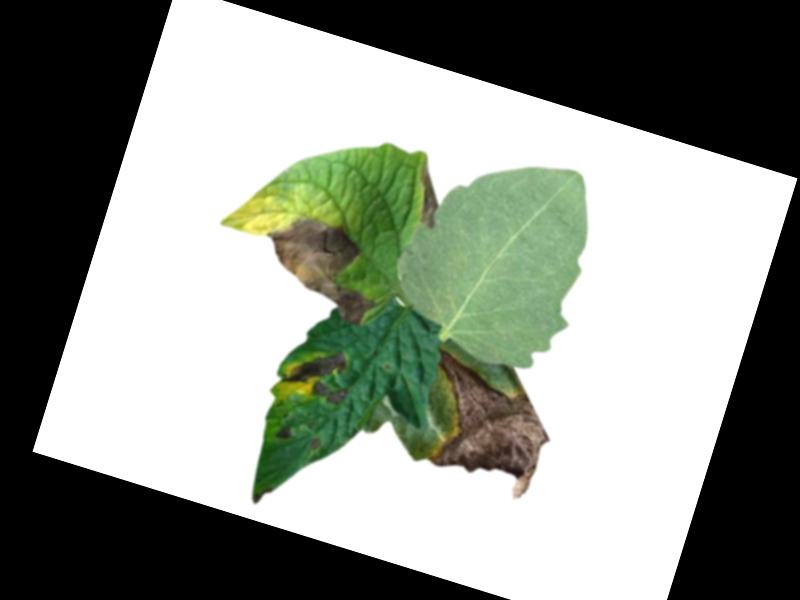Early_blight: (402, 346, 566, 503), (249, 204, 396, 331), (278, 337, 357, 408), (407, 167, 448, 229), (248, 483, 272, 508), (272, 421, 293, 442), (309, 436, 321, 449)
healthy: (373, 126, 613, 382)
